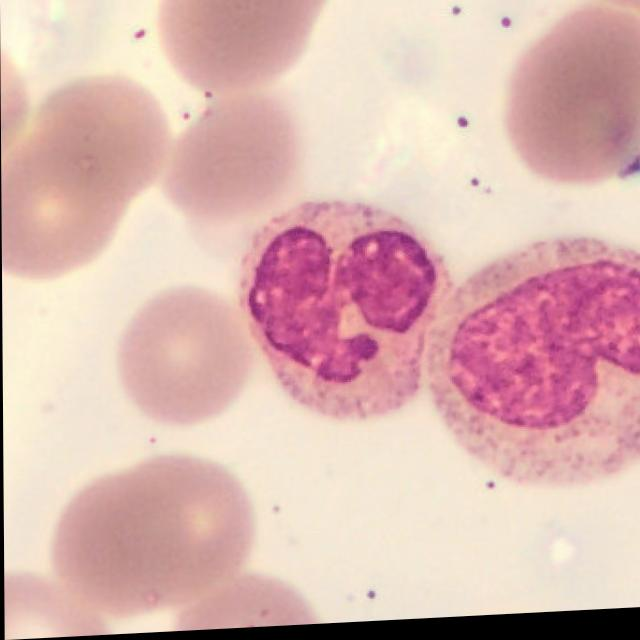Metamielocito: (425, 245, 640, 492)
Neutrofilo segmentado: (238, 202, 447, 422)
